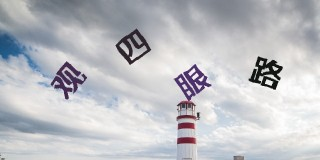四: (115, 29, 152, 65)
眼: (173, 63, 213, 100)
观: (51, 61, 88, 100)
路: (248, 55, 283, 90)
